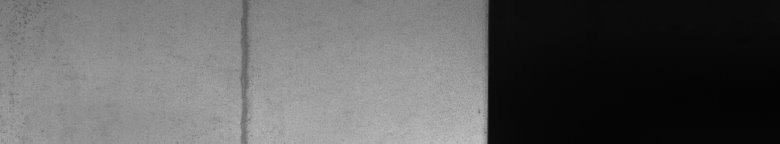hd: (233, 4, 255, 136)
